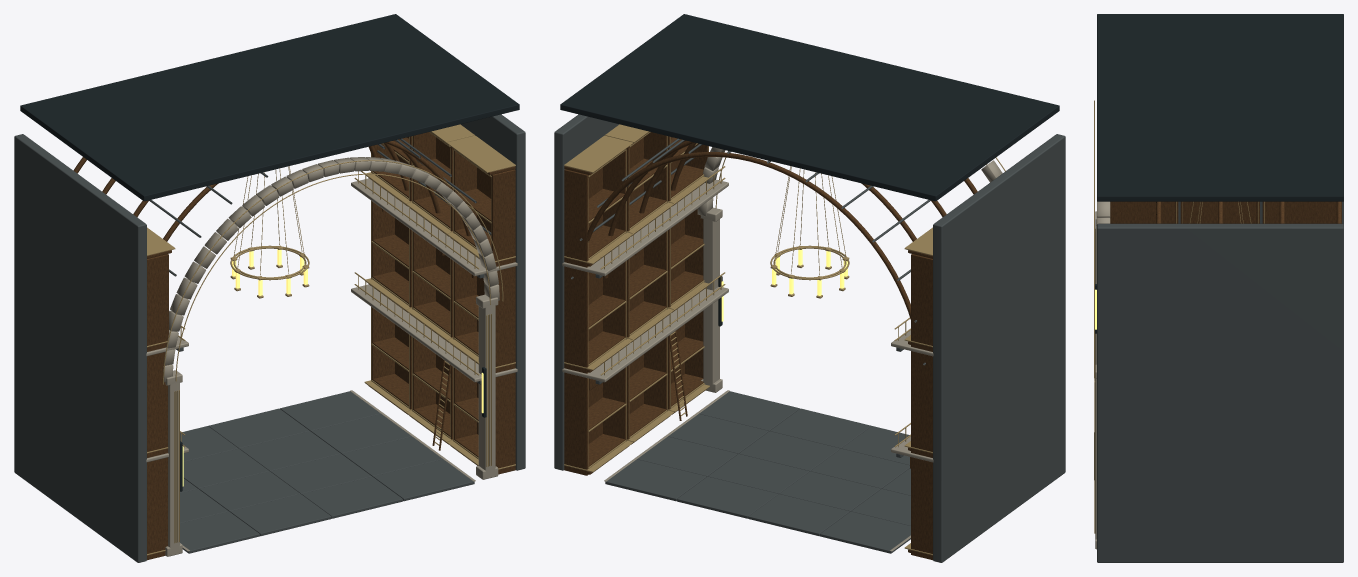
File: archive-v3.glb
3 views of the same model, side by side, from view 1: azimuth 30°, elevation 25°; view 2: azimuth 150°, elevation 25°; view 3: azimuth 270°, elevation 25° (orthographic).
Parts seen in each view (by area): view 1: Archive__Basalt, Archive__Graphite_joints, Archive__Archive_oak, Archive__Limestone, Archive__Brushed_brass, Archive__Warm_light; view 2: Archive__Basalt, Archive__Graphite_joints, Archive__Archive_oak, Archive__Brushed_brass, Archive__Limestone, Archive__Warm_light; view 3: Archive__Basalt, Archive__Graphite_joints, Archive__Archive_oak, Archive__Brushed_brass, Archive__Limestone.
Boxes of the visible parts, x1,y1,x2,y2 form: Archive__Basalt: (14, 114, 525, 562); Archive__Graphite_joints: (20, 14, 519, 491); Archive__Archive_oak: (73, 132, 515, 560); Archive__Limestone: (146, 157, 517, 556); Archive__Brushed_brass: (147, 124, 515, 555); Archive__Warm_light: (182, 249, 483, 486); Archive__Basalt: (554, 114, 1065, 562); Archive__Graphite_joints: (560, 14, 1059, 326); Archive__Archive_oak: (564, 132, 977, 560); Archive__Brushed_brass: (564, 124, 1005, 555); Archive__Limestone: (562, 147, 1002, 551); Archive__Warm_light: (721, 249, 847, 321); Archive__Basalt: (1097, 201, 1343, 562); Archive__Graphite_joints: (1094, 14, 1343, 479); Archive__Archive_oak: (1110, 201, 1341, 223); Archive__Brushed_brass: (1094, 100, 1264, 533); Archive__Limestone: (1095, 201, 1110, 549).
Bounding box in the file's own units: 28.9 × 26.25 × 16.19.
6 materials, 1 textured.
